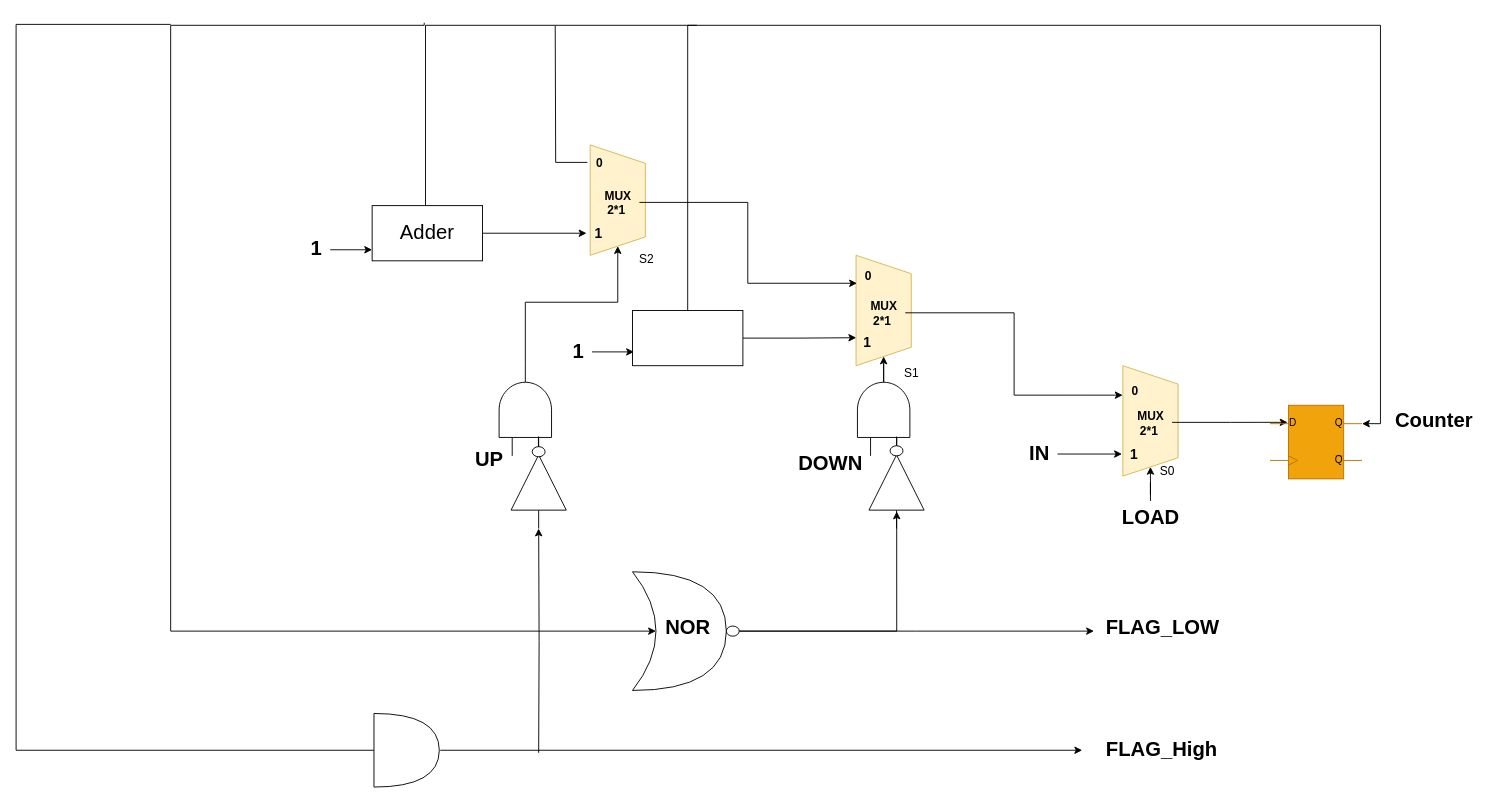
Image size: 1502x803. Some labels were removed from this diagram. The shapes that lost their labels are listed below. From the top down, each one's centre as x and y in pixels, then its label:
the point at 687,338: Subtractor
the point at 406,750: AND
